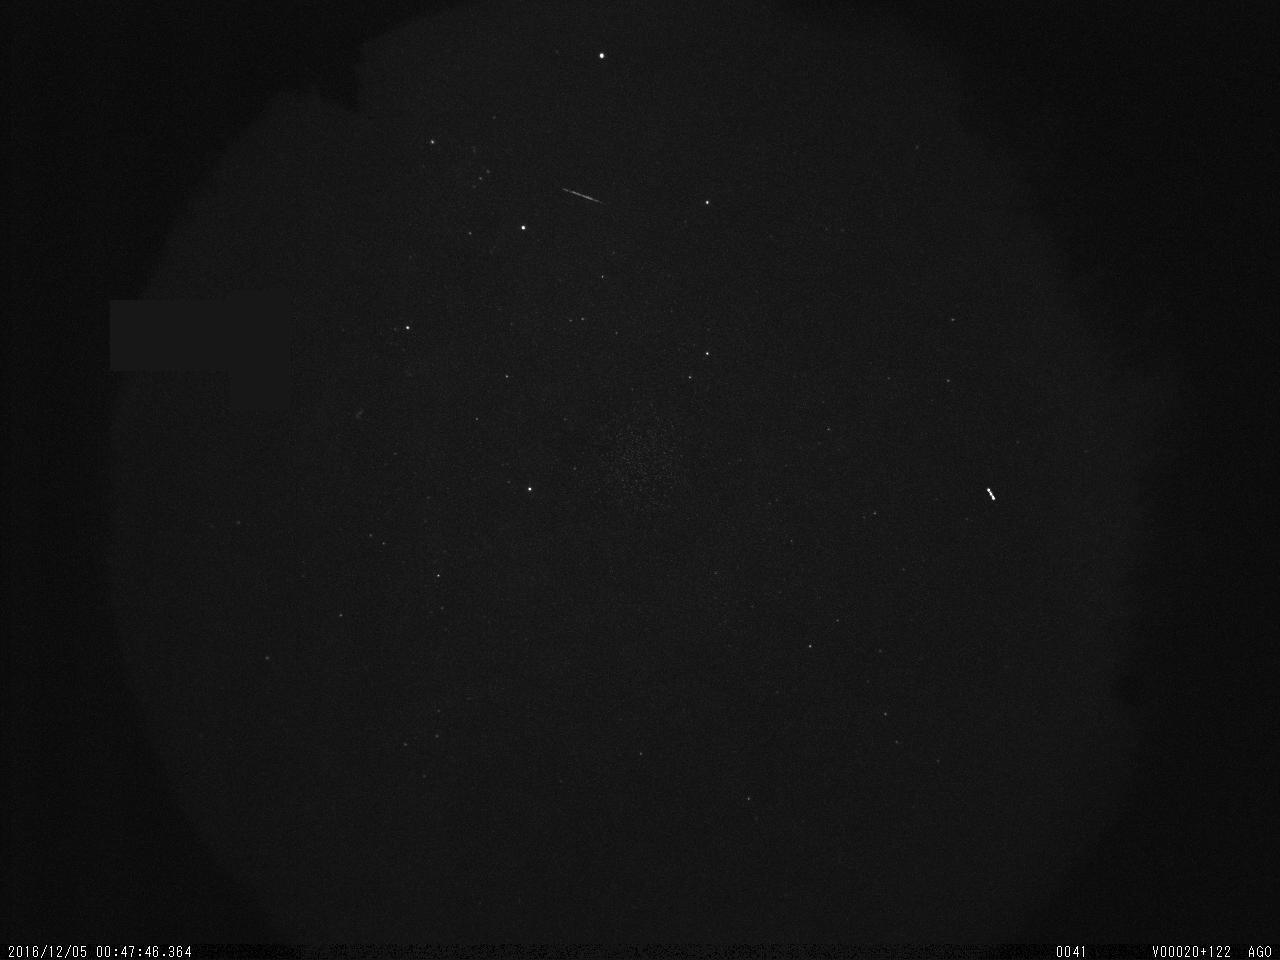meteor: (550, 176, 615, 215)
